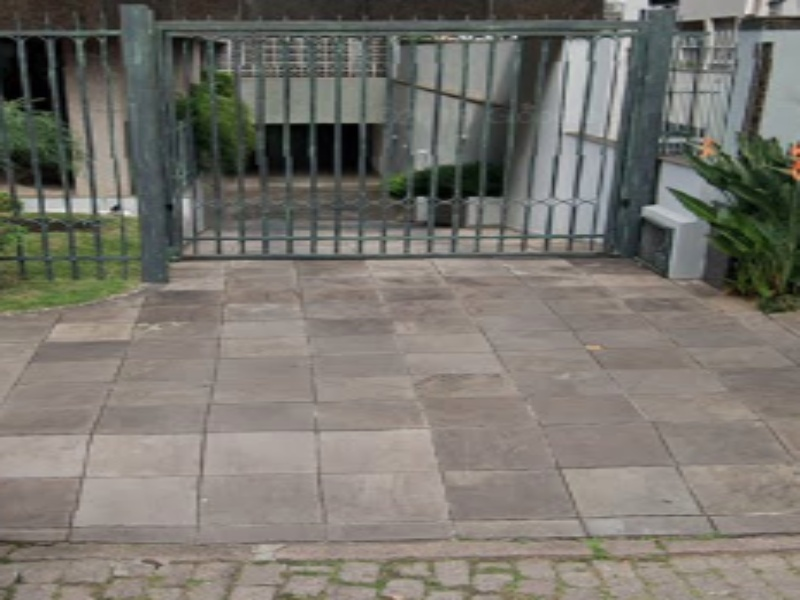g28: (75, 434, 798, 594)
